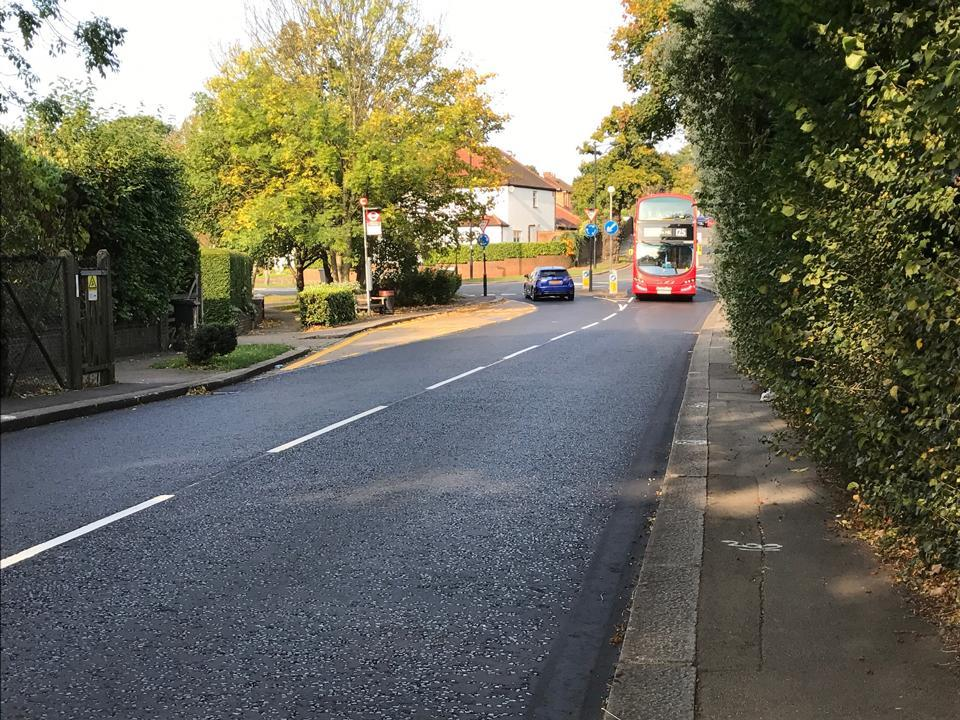car: (628, 185, 699, 303), (515, 258, 580, 307)
